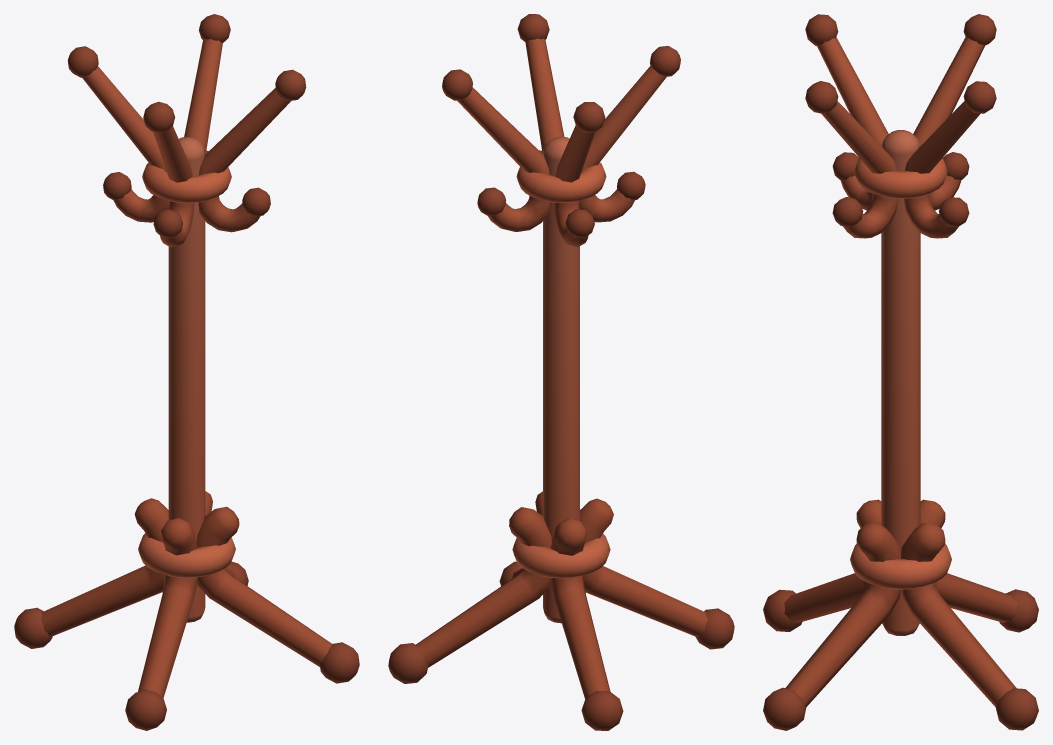
File: Hanger_001.fbx
The picture shows the model from 3 angles, left to right: view 1: azimuth 30°, elevation 25°; view 2: azimuth 150°, elevation 25°; view 3: azimuth 270°, elevation 25°; orthographic projection. The views are drawn at different scales.
Parts seen in each view (by area): view 1: Hanger_001; view 2: Hanger_001; view 3: Hanger_001.
Boxes of the visible parts, left/top/right/bottom form: Hanger_001: left=14, top=14, right=359, bottom=730; Hanger_001: left=388, top=14, right=734, bottom=730; Hanger_001: left=763, top=14, right=1038, bottom=730.
Bounding box in the file's own units: 0.7037 × 1.78 × 0.7037.
